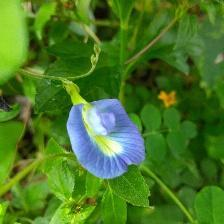shankupushpam: (67, 97, 153, 182)
